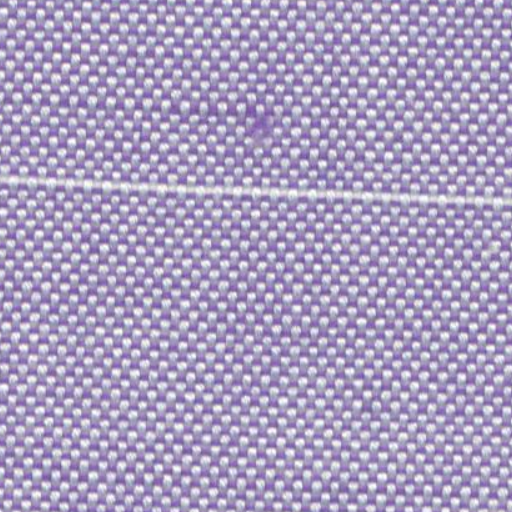TuoSha: (8, 146, 496, 242)
